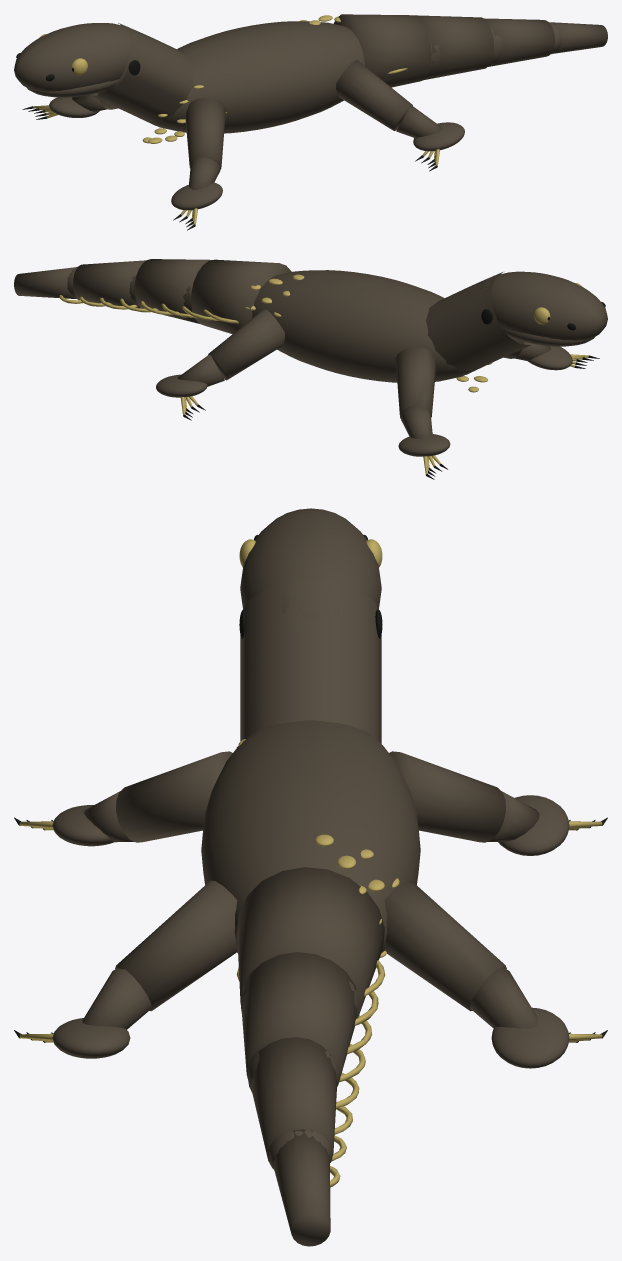
Rendered from clouded-monitor-v1.glb.
The picture shows the model from 3 angles, top to bottom: view 1: azimuth 30°, elevation 25°; view 2: azimuth 150°, elevation 25°; view 3: azimuth 270°, elevation 25°; orthographic projection. The views are drawn at different scales.
Parts seen in each view (by area): view 1: torso/long-torso, head/short-head, neck/raised-neck, tail/tail-segment-1, tail/tail-segment-2, splayed-limb-system/upper-limb-4, tail/tail-segment-3, splayed-limb-system/upper-limb-2, tail/tail-segment-4, splayed-limb-system/palm-2, splayed-limb-system/palm-4, splayed-limb-system/lower-limb-4 (+4 smaller); view 2: torso/long-torso, head/short-head, neck/raised-neck, tail/tail-segment-1, tail/tail-segment-2, splayed-limb-system/upper-limb-3, tail/tail-segment-3, splayed-limb-system/upper-limb-1, tail/tail-segment-4, splayed-limb-system/palm-1, splayed-limb-system/lower-limb-1, splayed-limb-system/palm-3 (+4 smaller); view 3: torso/long-torso, neck/raised-neck, tail/tail-segment-1, head/short-head, tail/tail-segment-2, splayed-limb-system/upper-limb-4, splayed-limb-system/upper-limb-3, tail/tail-segment-3, splayed-limb-system/upper-limb-1, splayed-limb-system/upper-limb-2, tail/tail-segment-4, splayed-limb-system/palm-3 (+7 smaller).
Part boxes in pixels (x1=…): torso/long-torso: x1=148, y1=21, x2=364, y2=133; head/short-head: x1=14, y1=23, x2=141, y2=91; neck/raised-neck: x1=90, y1=23, x2=195, y2=125; tail/tail-segment-1: x1=333, y1=14, x2=431, y2=87; tail/tail-segment-2: x1=417, y1=15, x2=493, y2=80; splayed-limb-system/upper-limb-4: x1=336, y1=60, x2=412, y2=130; tail/tail-segment-3: x1=484, y1=18, x2=554, y2=66; splayed-limb-system/upper-limb-2: x1=185, y1=98, x2=225, y2=169; tail/tail-segment-4: x1=549, y1=22, x2=607, y2=53; splayed-limb-system/palm-2: x1=171, y1=182, x2=222, y2=210; splayed-limb-system/palm-4: x1=413, y1=122, x2=464, y2=151; splayed-limb-system/lower-limb-4: x1=396, y1=105, x2=441, y2=137; torso/long-torso: x1=252, y1=270, x2=472, y2=382; head/short-head: x1=479, y1=271, x2=607, y2=340; neck/raised-neck: x1=426, y1=272, x2=530, y2=374; tail/tail-segment-1: x1=191, y1=259, x2=291, y2=333; tail/tail-segment-2: x1=134, y1=259, x2=211, y2=323; splayed-limb-system/upper-limb-3: x1=208, y1=309, x2=284, y2=380; tail/tail-segment-3: x1=73, y1=260, x2=145, y2=308; splayed-limb-system/upper-limb-1: x1=395, y1=347, x2=435, y2=418; tail/tail-segment-4: x1=14, y1=267, x2=76, y2=298; splayed-limb-system/palm-1: x1=398, y1=434, x2=450, y2=456; splayed-limb-system/lower-limb-1: x1=401, y1=406, x2=432, y2=438; splayed-limb-system/palm-3: x1=156, y1=374, x2=207, y2=397; torso/long-torso: x1=201, y1=720, x2=420, y2=952; neck/raised-neck: x1=240, y1=581, x2=381, y2=743; tail/tail-segment-1: x1=237, y1=867, x2=384, y2=1015; head/short-head: x1=240, y1=508, x2=381, y2=620; tail/tail-segment-2: x1=241, y1=952, x2=359, y2=1085; splayed-limb-system/upper-limb-4: x1=115, y1=880, x2=237, y2=1011; splayed-limb-system/upper-limb-3: x1=384, y1=880, x2=506, y2=1011; tail/tail-segment-3: x1=251, y1=1037, x2=337, y2=1168; splayed-limb-system/upper-limb-1: x1=389, y1=751, x2=505, y2=842; splayed-limb-system/upper-limb-2: x1=116, y1=751, x2=232, y2=842; tail/tail-segment-4: x1=273, y1=1129, x2=330, y2=1246; splayed-limb-system/palm-3: x1=491, y1=1007, x2=569, y2=1068.
Size of the model in its own units: 3.44 by 0.823 by 1.68.
